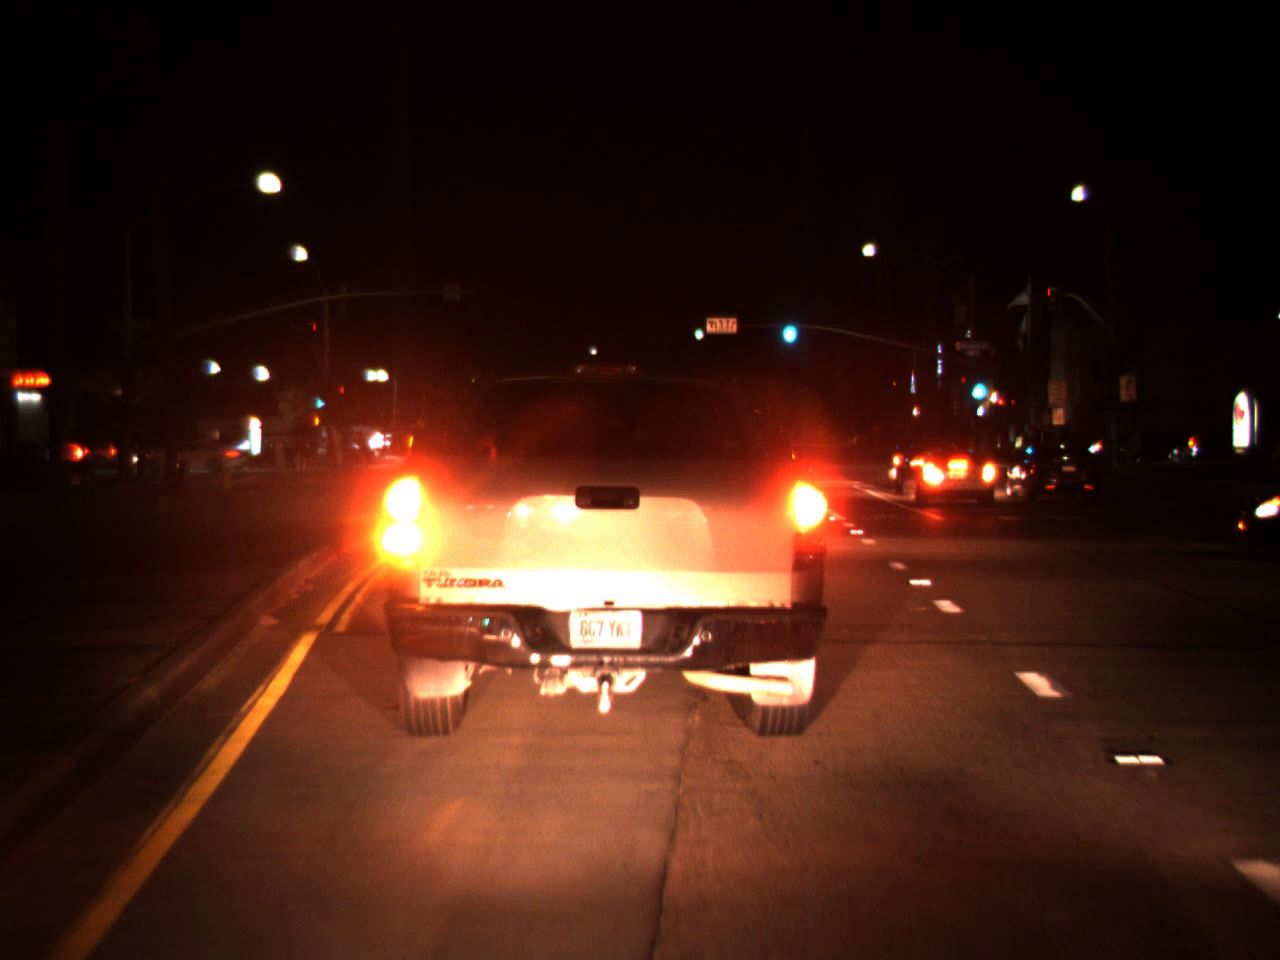go: (965, 361, 990, 406), (778, 302, 799, 350), (692, 316, 703, 343), (313, 389, 327, 410)
